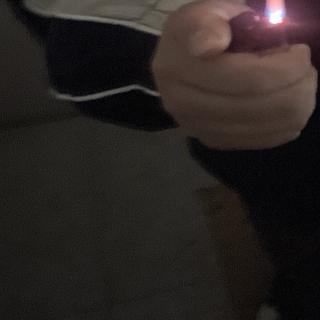fire: (262, 0, 289, 17)
